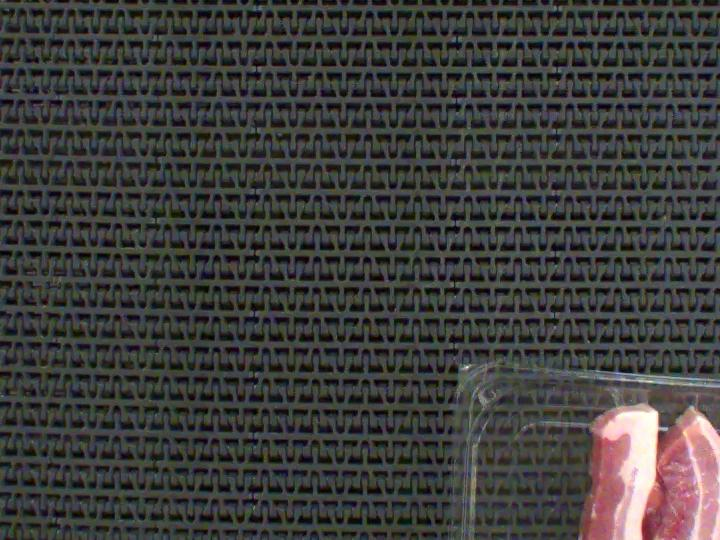packaging-error: (607, 379, 652, 416)
